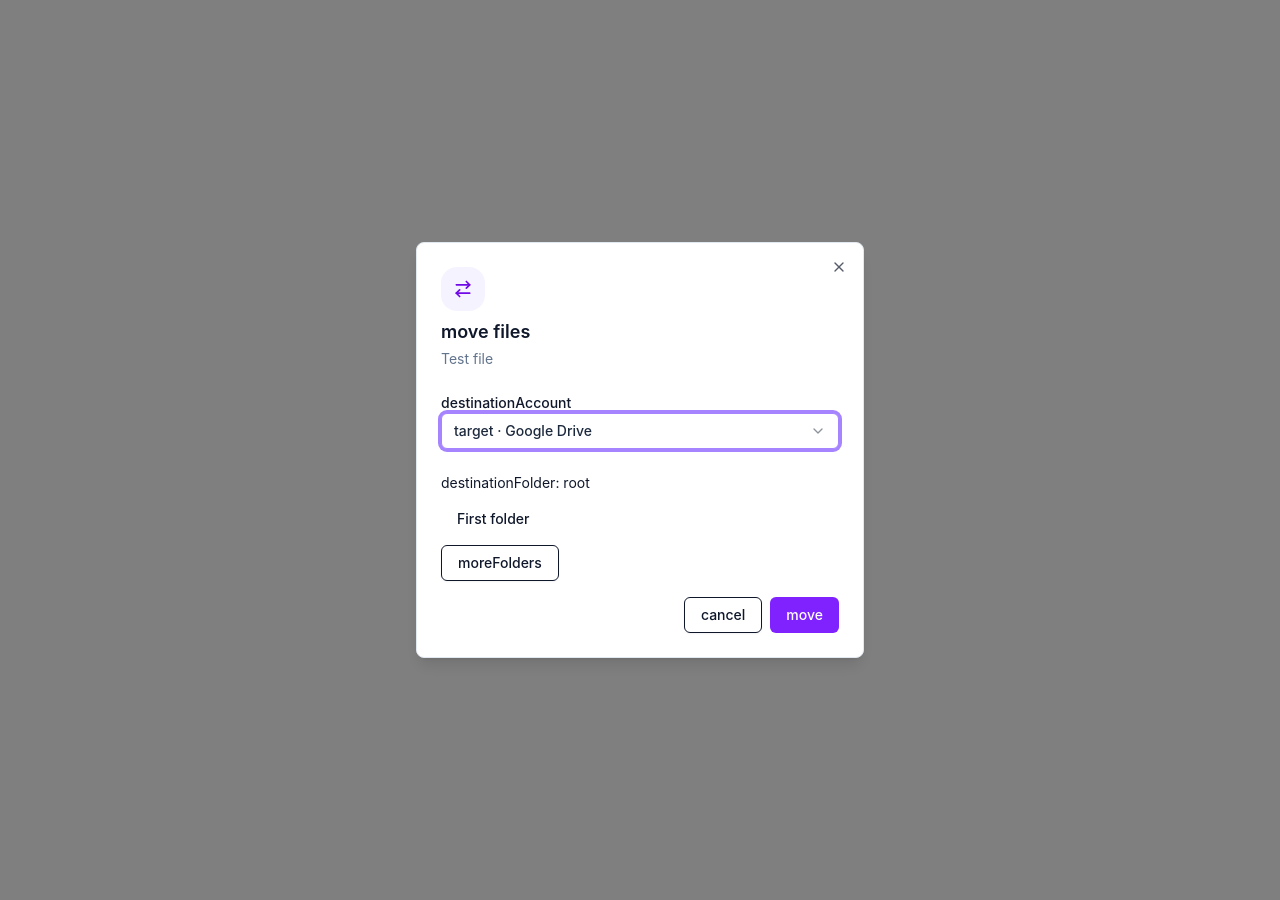
Test: transfer destination › loads more folders, browses down and resets to root when the account changes
Later steps or results of the test are not shown.
Click the button "moreFolders" at coordinates (500, 563), box [441,545,559,581]
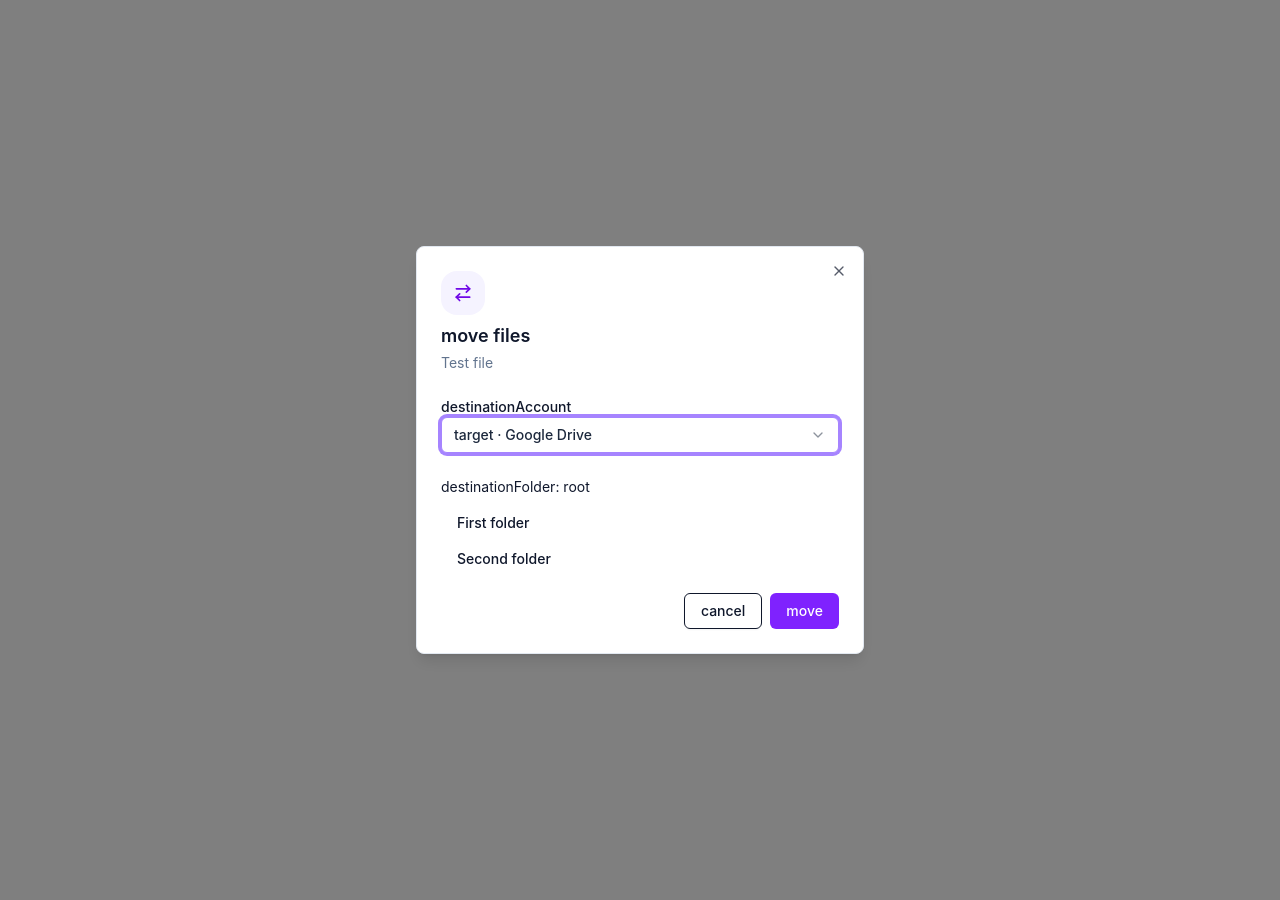
Click the button "Second folder" at coordinates (504, 558), box [441,541,839,577]
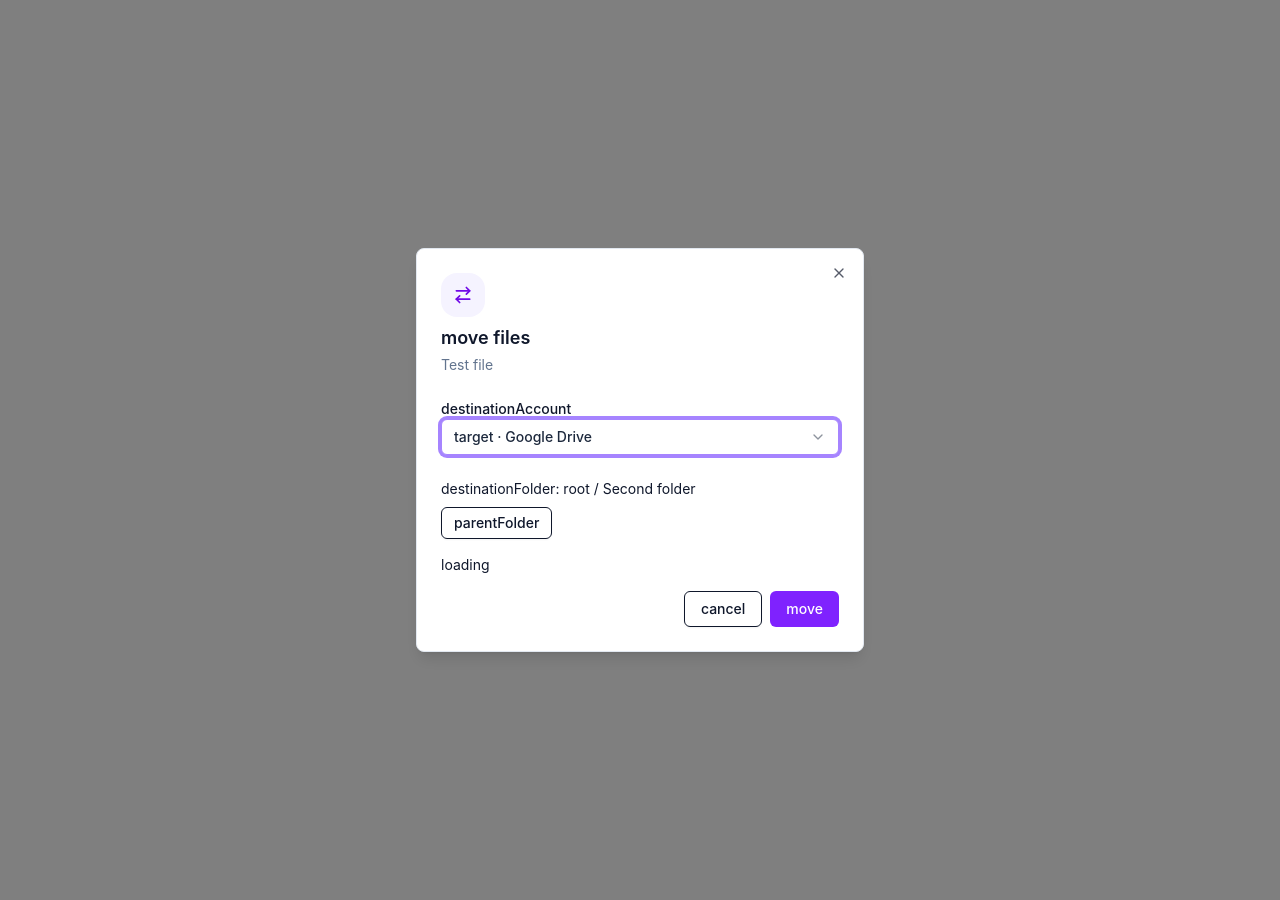
Click the button "move" at coordinates (805, 609), box [770,591,839,627]
Click the button "parentFolder" at coordinates (497, 523), box [441,507,552,539]
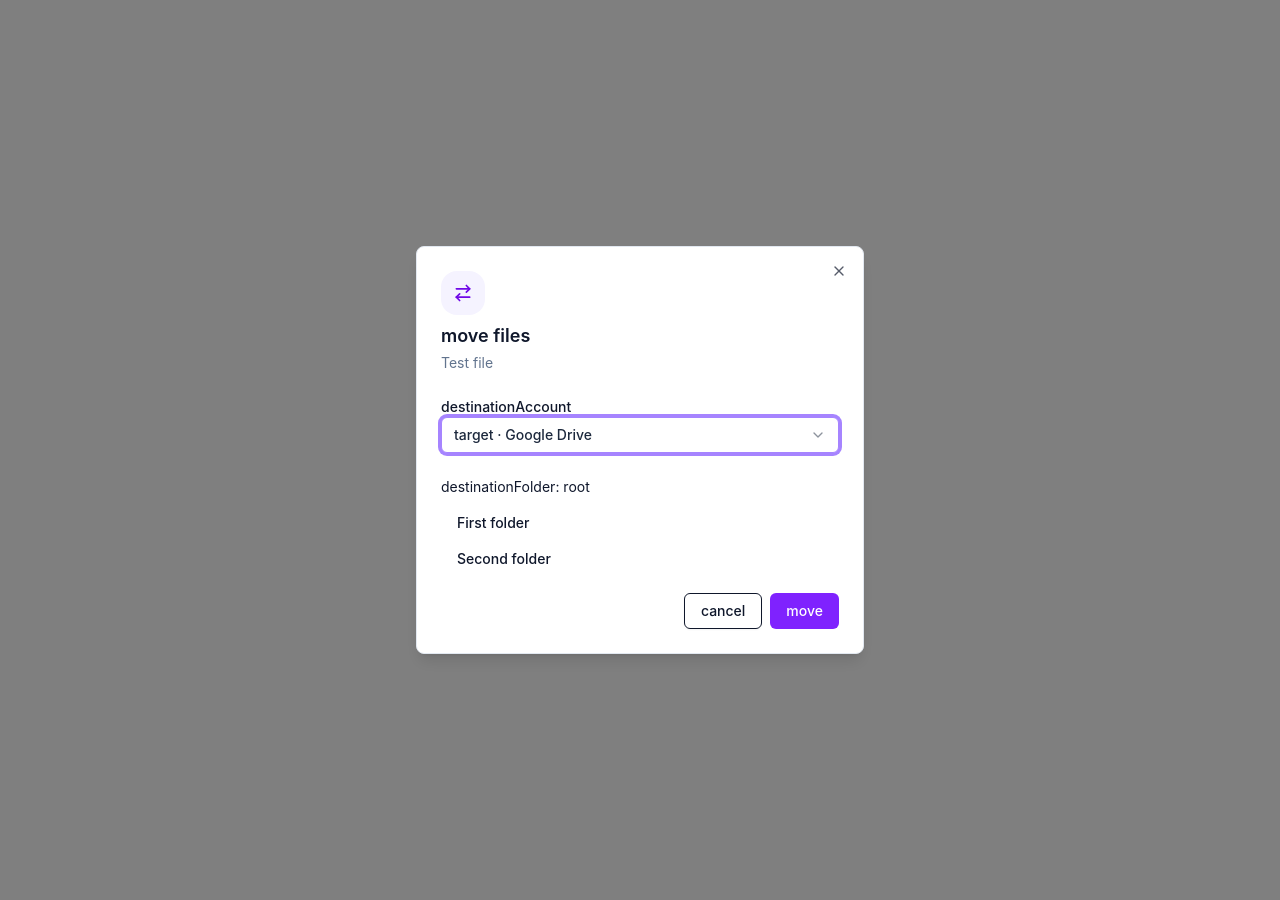
Check: the button "First folder" is shown, box [441,505,839,541]
